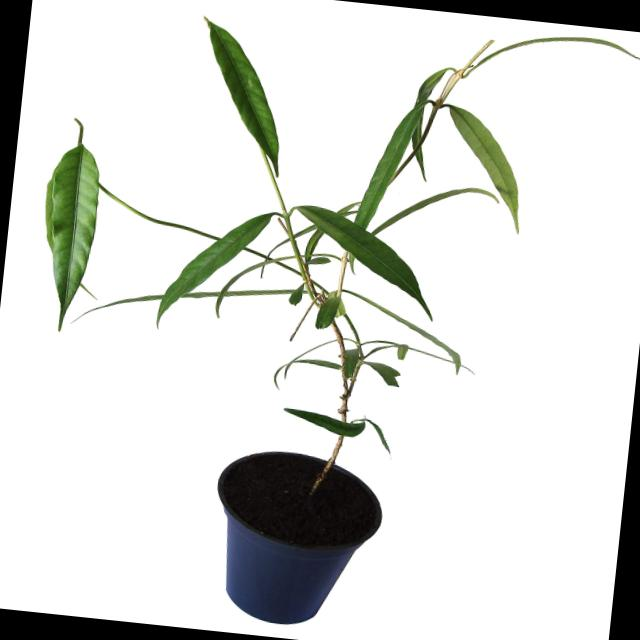Anantamul: (6, 58, 536, 617)
